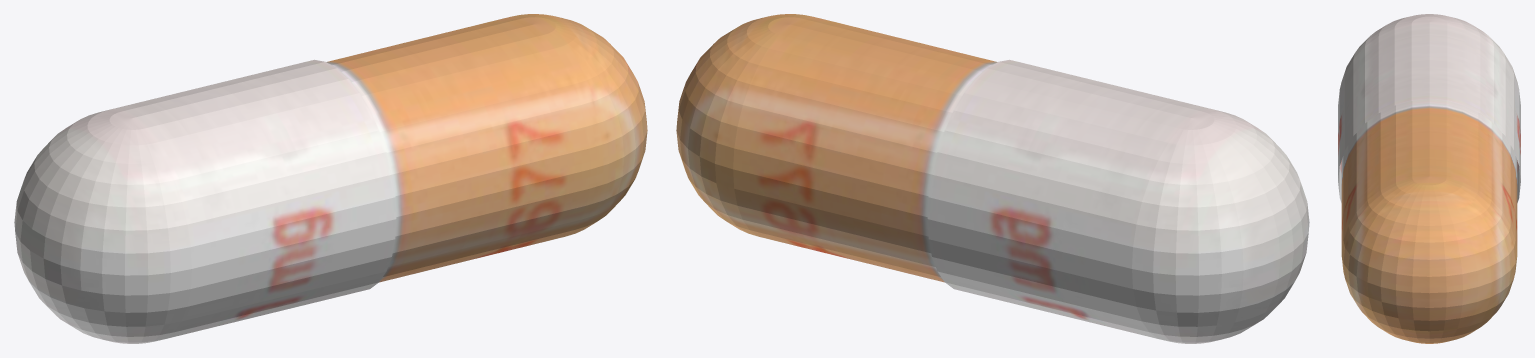
The picture shows the model from 3 angles, left to right: view 1: azimuth 30°, elevation 25°; view 2: azimuth 150°, elevation 25°; view 3: azimuth 270°, elevation 25°; orthographic projection. The views are drawn at different scales.
Visible parts, largest first — view 1: 球體; view 2: 球體; view 3: 球體.
Boxes of the visible parts, left/top/right/bottom form: 球體: left=14, top=14, right=647, bottom=343; 球體: left=676, top=14, right=1309, bottom=343; 球體: left=1338, top=14, right=1520, bottom=343.
Bounding box in the file's own units: 2.93 × 1 × 1.
1 material, 1 textured.
